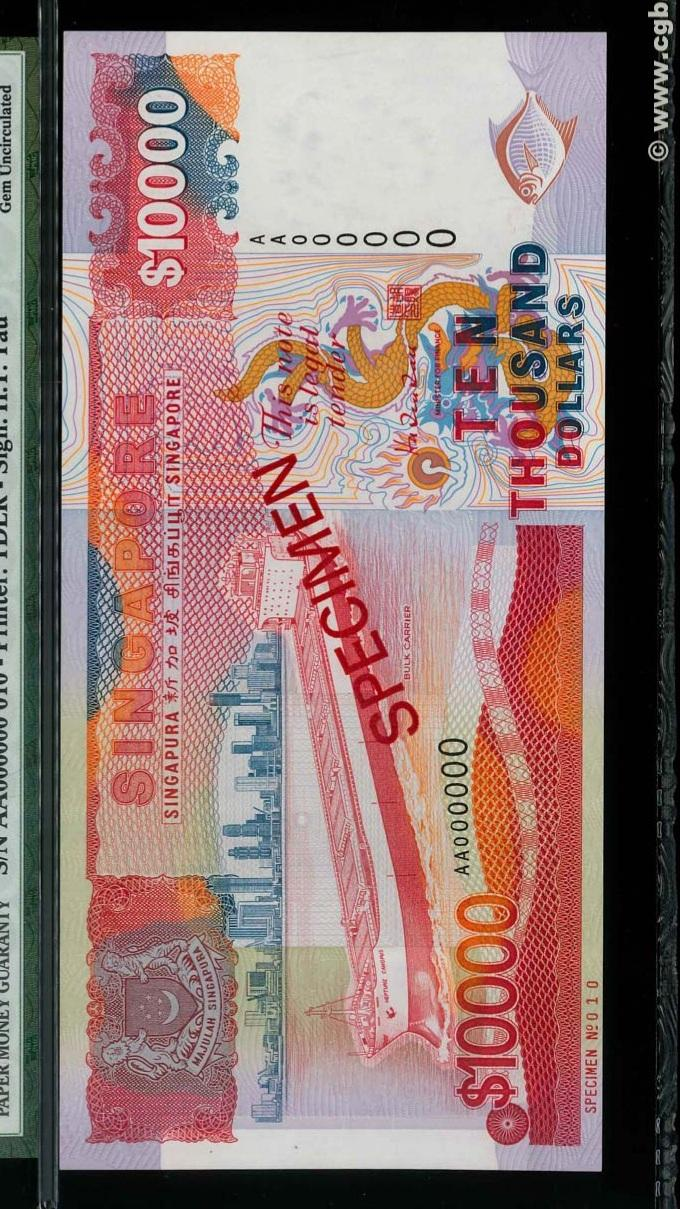10000SingaporeDollar: (67, 40, 600, 1164)
